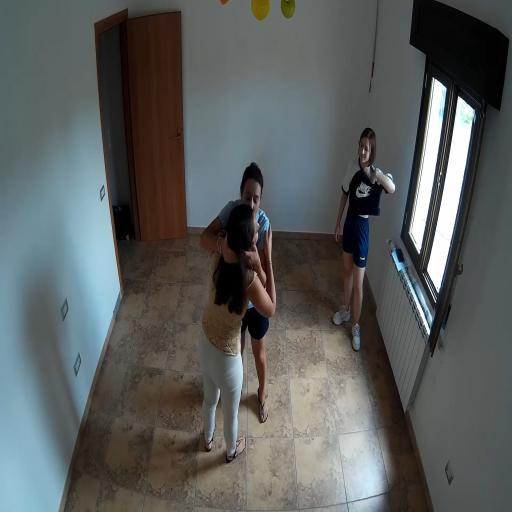nao-violencia: (189, 154, 286, 468)
